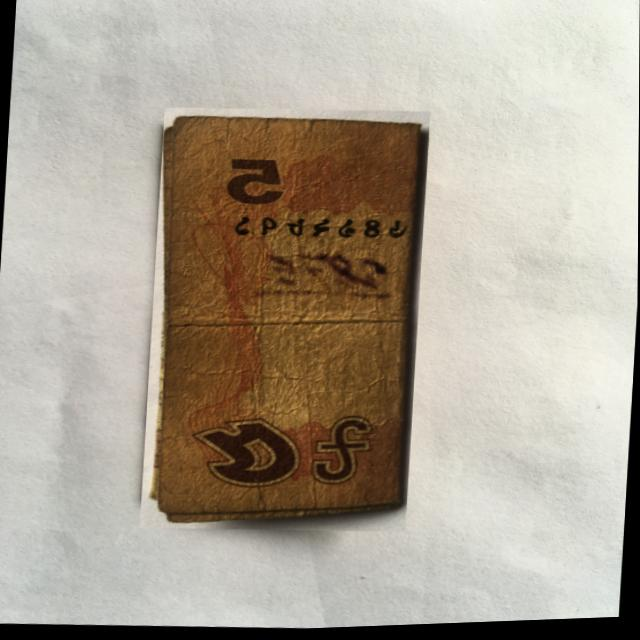Taka: (140, 101, 431, 543)
